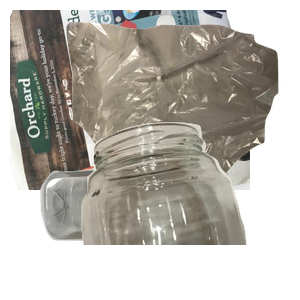glass: (74, 120, 300, 300)
paper: (10, 10, 250, 190)
plastic: (38, 165, 255, 300)
trash: (64, 20, 300, 200)
